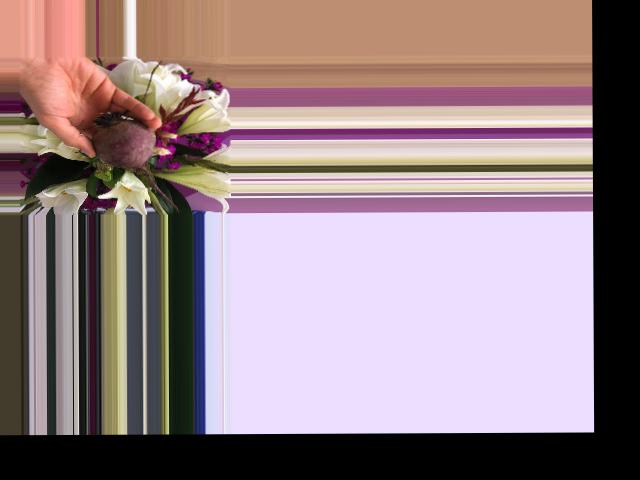beet: (92, 111, 180, 211)
